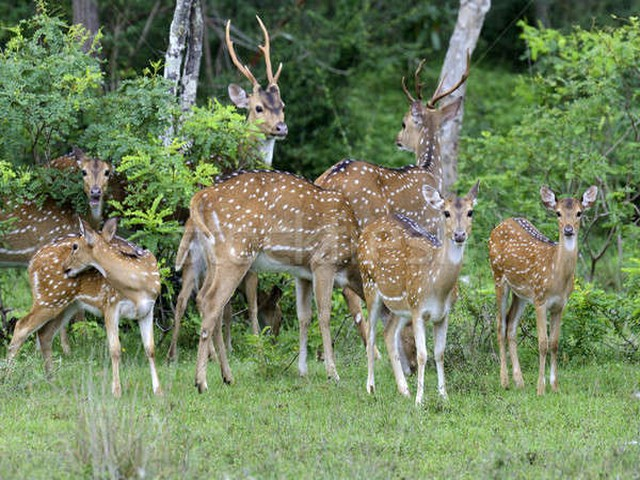deer: (181, 172, 359, 386), (15, 216, 169, 401), (360, 178, 481, 402), (489, 183, 602, 393), (213, 9, 288, 171), (387, 52, 481, 175), (63, 145, 140, 208)
